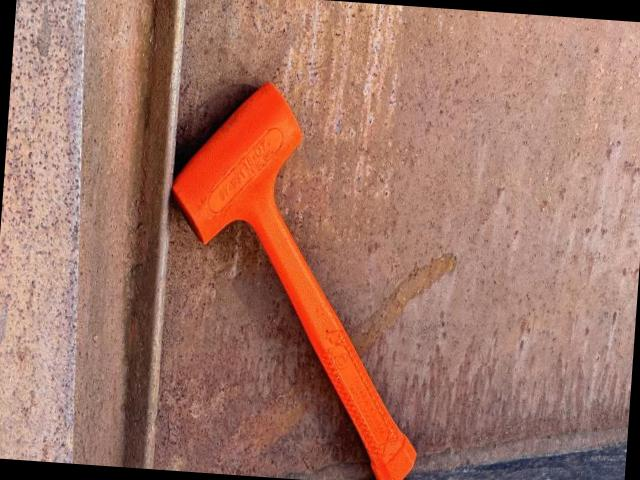hammer: (152, 74, 441, 480)
